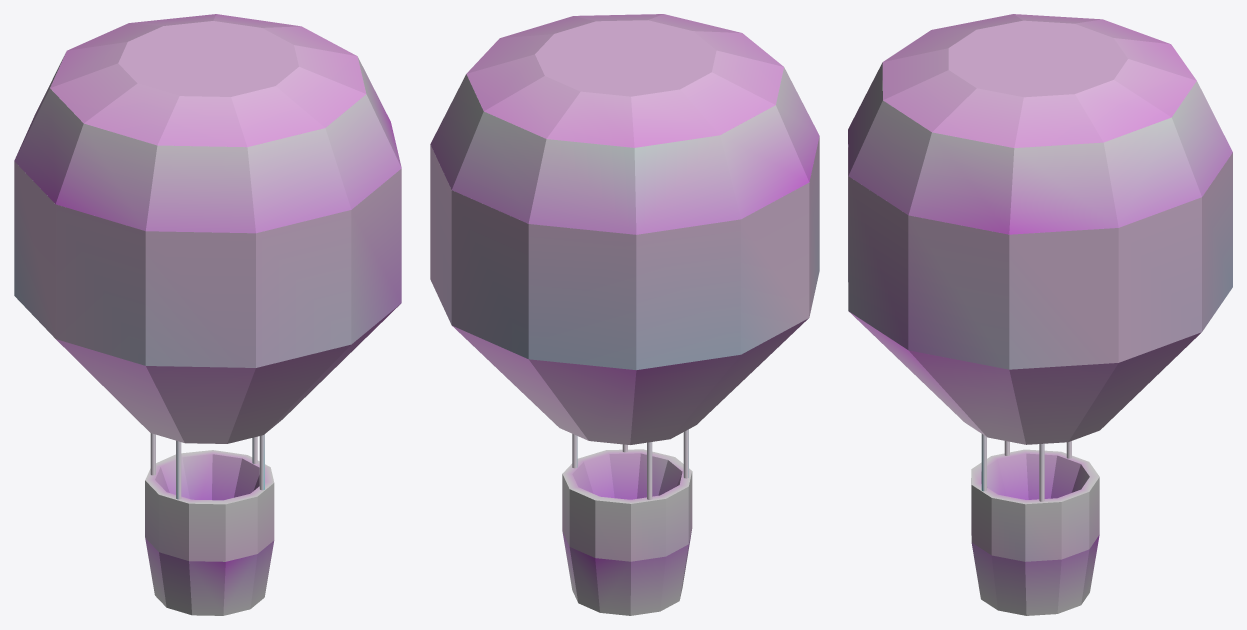
The picture shows the model from 3 angles, left to right: view 1: azimuth 30°, elevation 25°; view 2: azimuth 150°, elevation 25°; view 3: azimuth 270°, elevation 25°; orthographic projection.
Visible parts, largest first — view 1: lower, basket_lower; view 2: lower, basket_lower; view 3: lower, basket_lower.
Boxes of the visible parts, x1=… form: lower: x1=14, y1=14, x2=401, y2=443; basket_lower: x1=145, y1=450, x2=274, y2=615; lower: x1=430, y1=14, x2=819, y2=444; basket_lower: x1=562, y1=449, x2=692, y2=615; lower: x1=848, y1=14, x2=1232, y2=444; basket_lower: x1=971, y1=449, x2=1099, y2=615.
Bounding box in the file's own units: 11.88 × 18 × 11.76.
